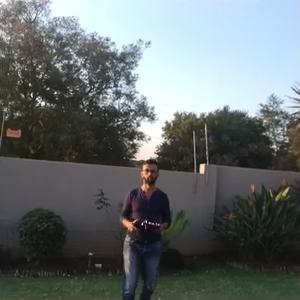follow: (116, 156, 174, 299)
